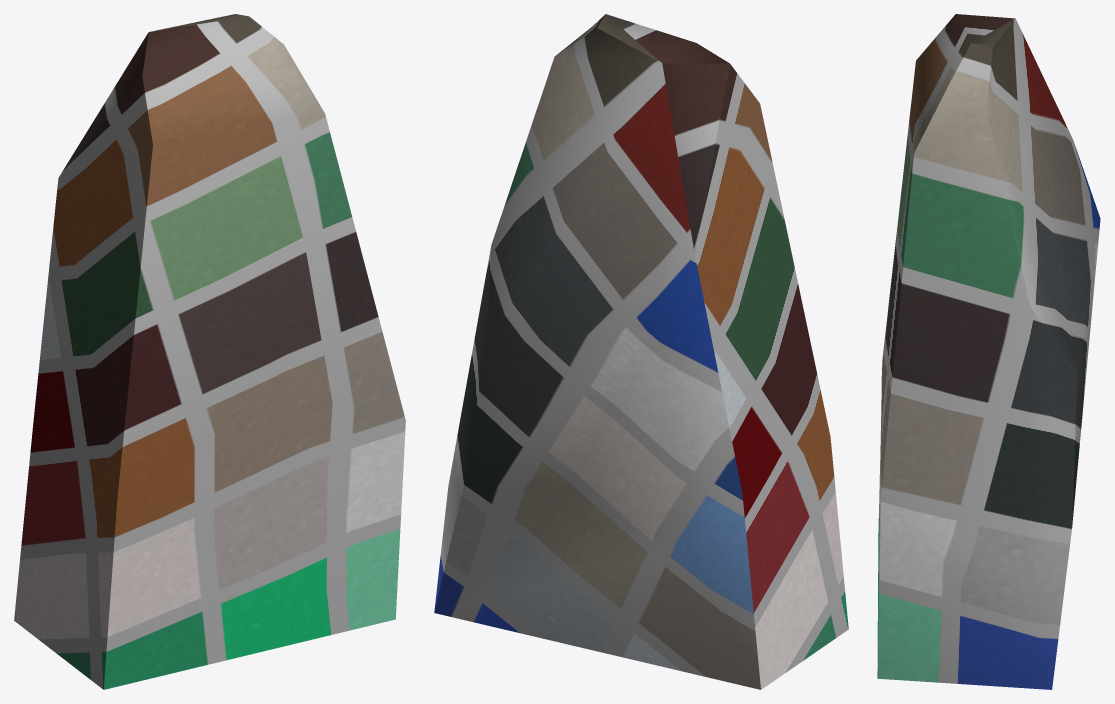
Rendered from Md_Ice_1.fbx.
3 renders of one model, left to right at view 1: azimuth 30°, elevation 25°; view 2: azimuth 150°, elevation 25°; view 3: azimuth 270°, elevation 25°, orthographic. The views are drawn at different scales.
Visible parts, largest first — view 1: Md_Ice_Stone; view 2: Md_Ice_Stone; view 3: Md_Ice_Stone.
Part boxes in pixels (x1,y1,x2,y2): Md_Ice_Stone: [14, 14, 405, 689]; Md_Ice_Stone: [434, 14, 848, 689]; Md_Ice_Stone: [877, 14, 1100, 689].
Size of the model in its own units: 26.28 by 46.23 by 15.91.
